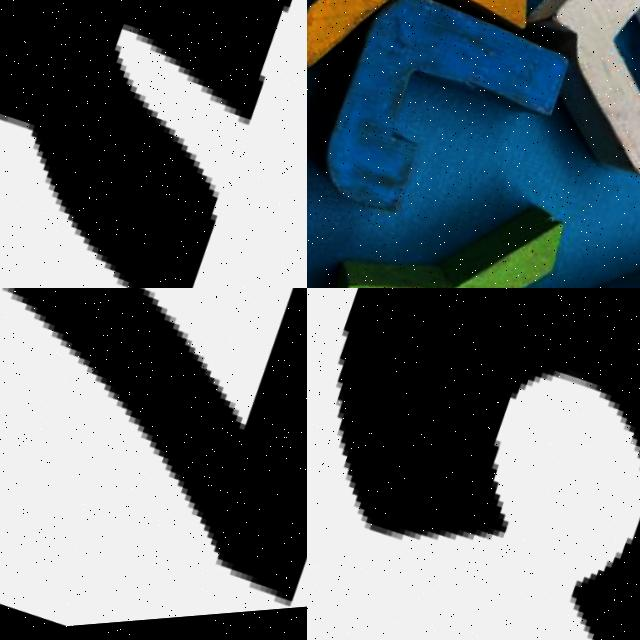7: (0, 288, 307, 640)
C: (307, 288, 640, 640)
K: (0, 0, 307, 288)
Q: (482, 0, 640, 226)
V: (495, 181, 640, 288)
X: (307, 0, 606, 146)
Y: (307, 134, 582, 288)
